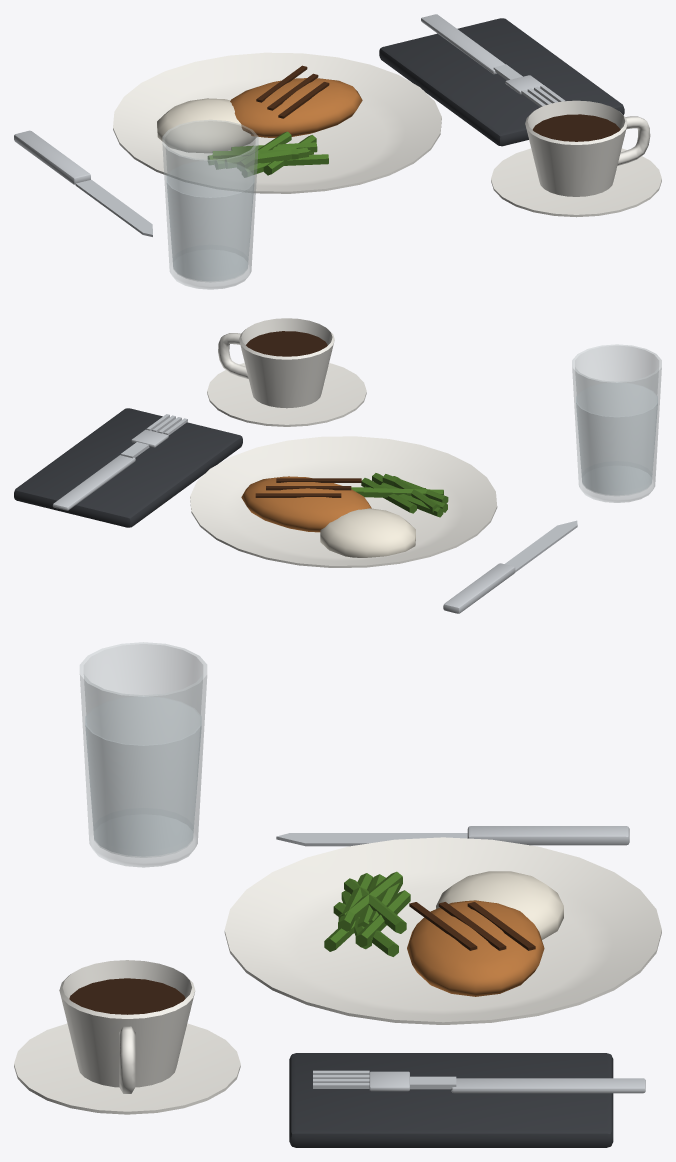
File: HH-DINING-SET-A.glb
3 renders of one model, top to bottom at view 1: azimuth 30°, elevation 25°; view 2: azimuth 150°, elevation 25°; view 3: azimuth 270°, elevation 25°, orthographic. The views are drawn at different scales.
Visible parts, largest first — view 1: Dining_Plate, Dining_CoffeeCup_Mesh, Dining_WaterGlass_Glass, Dining_Napkin, Dining_Meal_A_Mesh, Dining_WaterGlass_Water, Dining_Knife_Mesh, Dining_Fork_Mesh; view 2: Dining_Plate, Dining_Napkin, Dining_CoffeeCup_Mesh, Dining_WaterGlass_Glass, Dining_Meal_A_Mesh, Dining_WaterGlass_Water, Dining_Fork_Mesh, Dining_Knife_Mesh; view 3: Dining_Plate, Dining_Napkin, Dining_WaterGlass_Glass, Dining_CoffeeCup_Mesh, Dining_Meal_A_Mesh, Dining_WaterGlass_Water, Dining_Fork_Mesh, Dining_Knife_Mesh.
Part boxes in pixels (box(x1,y1,x2,y2)): Dining_Plate: box(113, 52, 441, 193); Dining_CoffeeCup_Mesh: box(491, 100, 661, 217); Dining_WaterGlass_Glass: box(162, 119, 258, 289); Dining_Napkin: box(379, 18, 624, 146); Dining_Meal_A_Mesh: box(157, 65, 362, 177); Dining_WaterGlass_Water: box(167, 161, 254, 280); Dining_Knife_Mesh: box(14, 130, 152, 236); Dining_Fork_Mesh: box(421, 14, 565, 107); Dining_Plate: box(190, 436, 497, 567); Dining_Napkin: box(14, 408, 242, 527); Dining_CoffeeCup_Mesh: box(207, 318, 366, 426); Dining_WaterGlass_Glass: box(572, 344, 661, 502); Dining_Meal_A_Mesh: box(241, 473, 448, 557); Dining_WaterGlass_Water: box(576, 383, 657, 494); Dining_Fork_Mesh: box(52, 414, 187, 510); Dining_Knife_Mesh: box(443, 520, 577, 613); Dining_Plate: box(224, 837, 661, 1024); Dining_Napkin: box(289, 1053, 613, 1147); Dining_WaterGlass_Glass: box(79, 642, 207, 867); Dining_CoffeeCup_Mesh: box(14, 960, 240, 1114); Dining_Meal_A_Mesh: box(324, 871, 563, 996); Dining_WaterGlass_Water: box(85, 697, 201, 856); Dining_Fork_Mesh: box(313, 1070, 645, 1093); Dining_Knife_Mesh: box(276, 826, 629, 846).
Size of the model in its own units: 0.485 by 0.1259 by 0.4.
